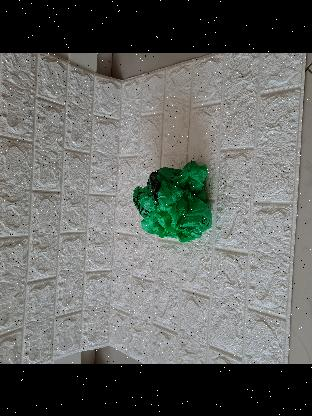Others: (132, 162, 216, 244)
